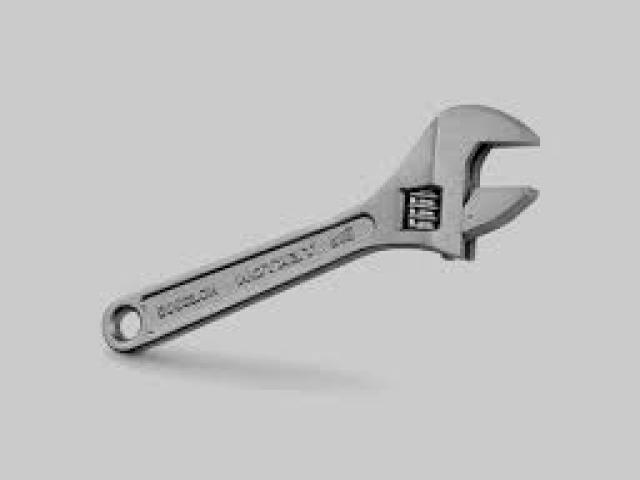Adjustable spanner: (102, 106, 539, 351)
